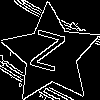Z: (26, 29, 66, 81)
